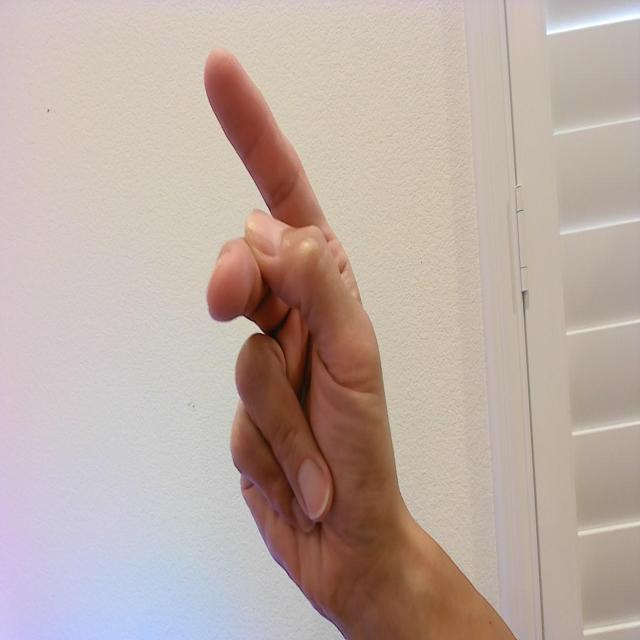P: (198, 44, 399, 611)
